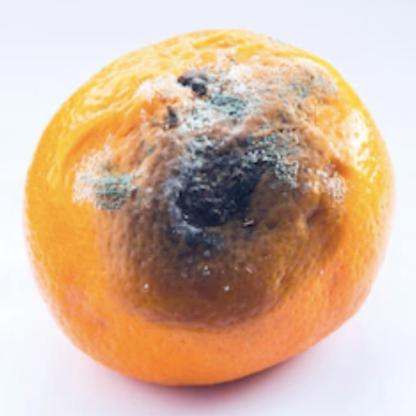rotten: (23, 28, 393, 387)
